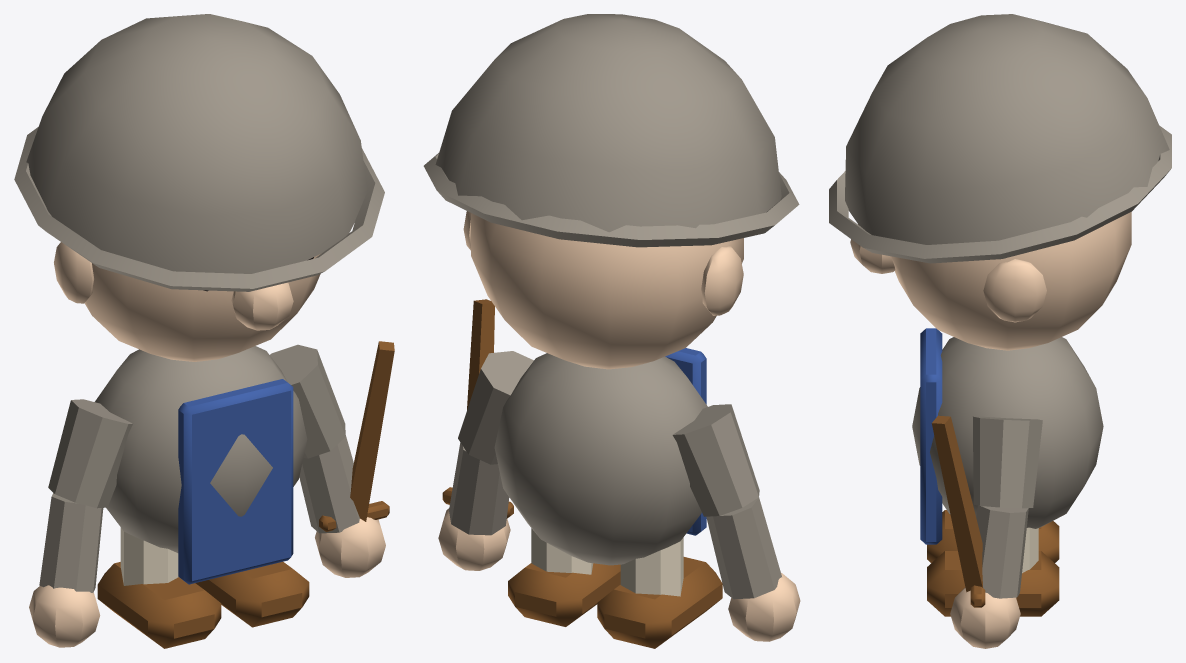
Rendered from CH_Cust_15_Yaver.fbx.
The picture shows the model from 3 angles, left to right: view 1: azimuth 30°, elevation 25°; view 2: azimuth 150°, elevation 25°; view 3: azimuth 270°, elevation 25°; orthographic projection. The views are drawn at different scales.
Parts seen in each view (by area): view 1: CH_Cust_15_Yaver; view 2: CH_Cust_15_Yaver; view 3: CH_Cust_15_Yaver.
Boxes of the visible parts, <box> form: CH_Cust_15_Yaver: <box>14,14,394,648</box>; CH_Cust_15_Yaver: <box>423,14,800,648</box>; CH_Cust_15_Yaver: <box>829,14,1171,648</box>.
Bounding box in the file's own units: 0.5272 × 0.833 × 0.4658.
